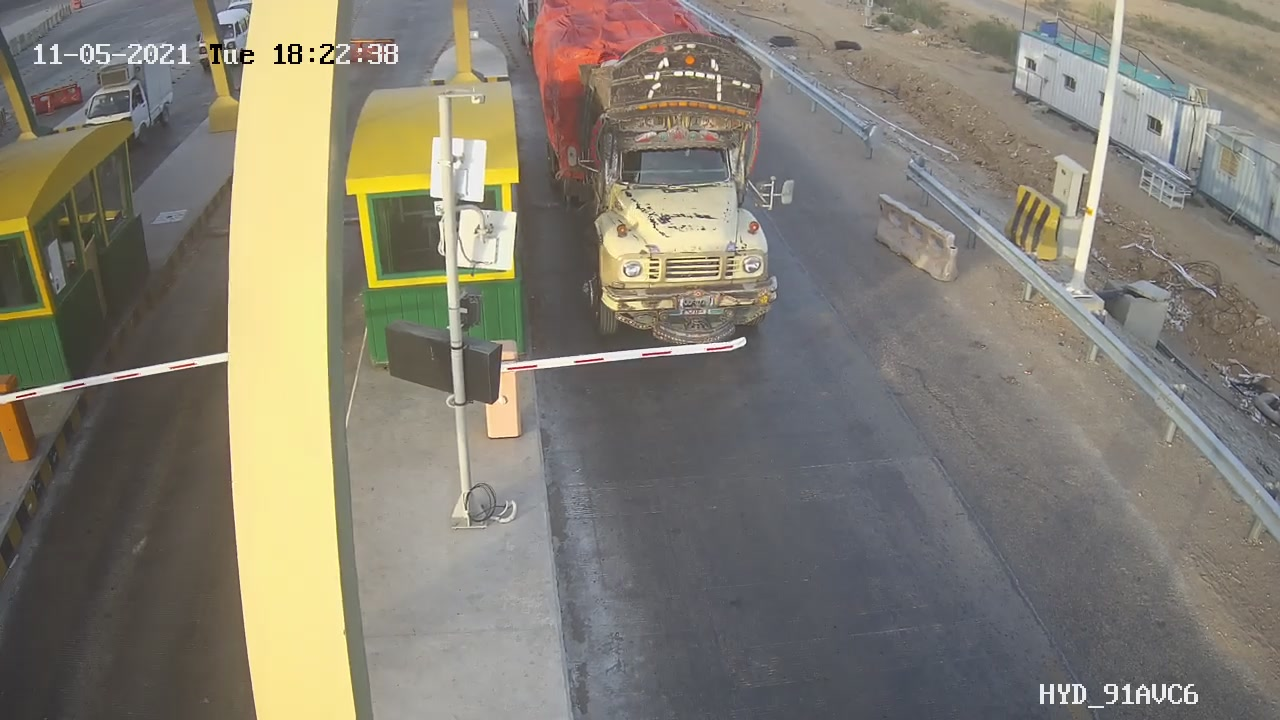F5: (542, 24, 815, 345)
